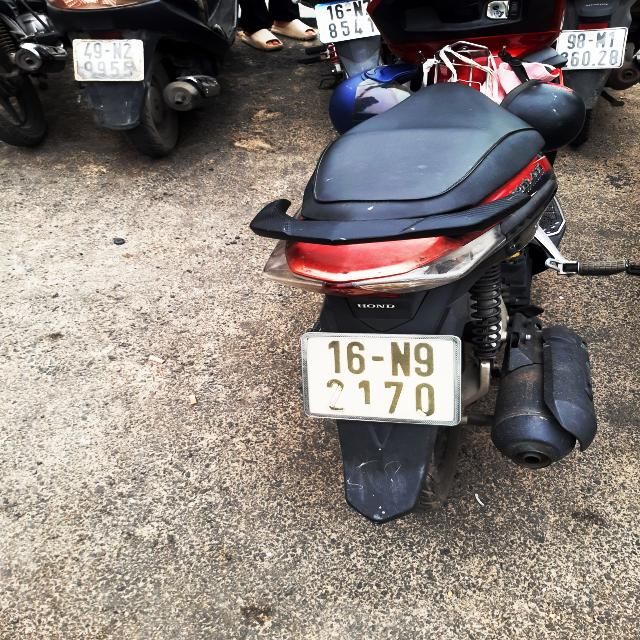license_plate: (300, 330, 467, 427)
